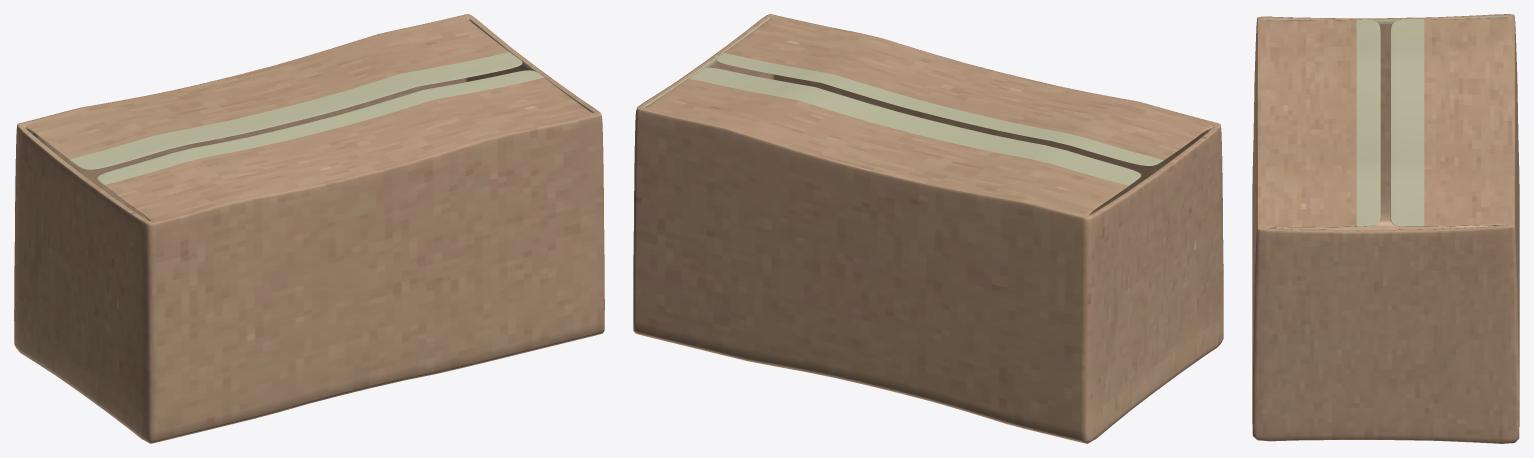
File: BeatenCardboard.fbx
3 views of the same model, side by side, from view 1: azimuth 30°, elevation 25°; view 2: azimuth 150°, elevation 25°; view 3: azimuth 270°, elevation 25° (orthographic). The views are drawn at different scales.
Visible parts, largest first — view 1: Cardboard_BoxBeatenUp; view 2: Cardboard_BoxBeatenUp; view 3: Cardboard_BoxBeatenUp.
Part boxes in pixels (x1,y1,x2,y2): Cardboard_BoxBeatenUp: (14,14,604,443); Cardboard_BoxBeatenUp: (633,14,1223,443); Cardboard_BoxBeatenUp: (1252,14,1519,443).
Bounding box in the file's own units: 4.73 × 2.26 × 2.49.
Materials: 2 (1 with a texture image).
